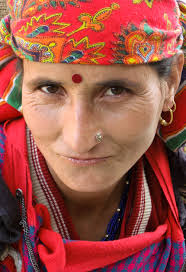indian_female: (1, 19, 176, 202)
